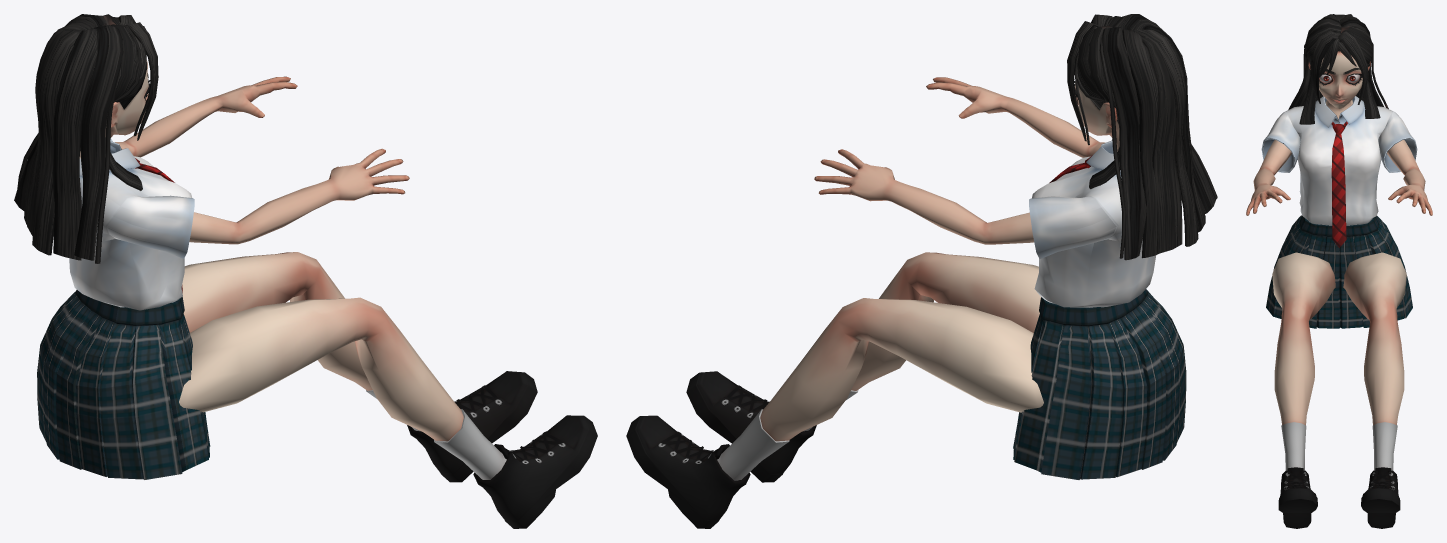
Rendered from college_girl_za_volantem.glb.
The picture shows the model from 3 angles, left to right: view 1: azimuth 30°, elevation 25°; view 2: azimuth 150°, elevation 25°; view 3: azimuth 270°, elevation 25°; orthographic projection. The views are drawn at different scales.
Bounding box in the file's own units: 1.04 × 1.08 × 0.4739.
Materials: 3 (3 with a texture image).
